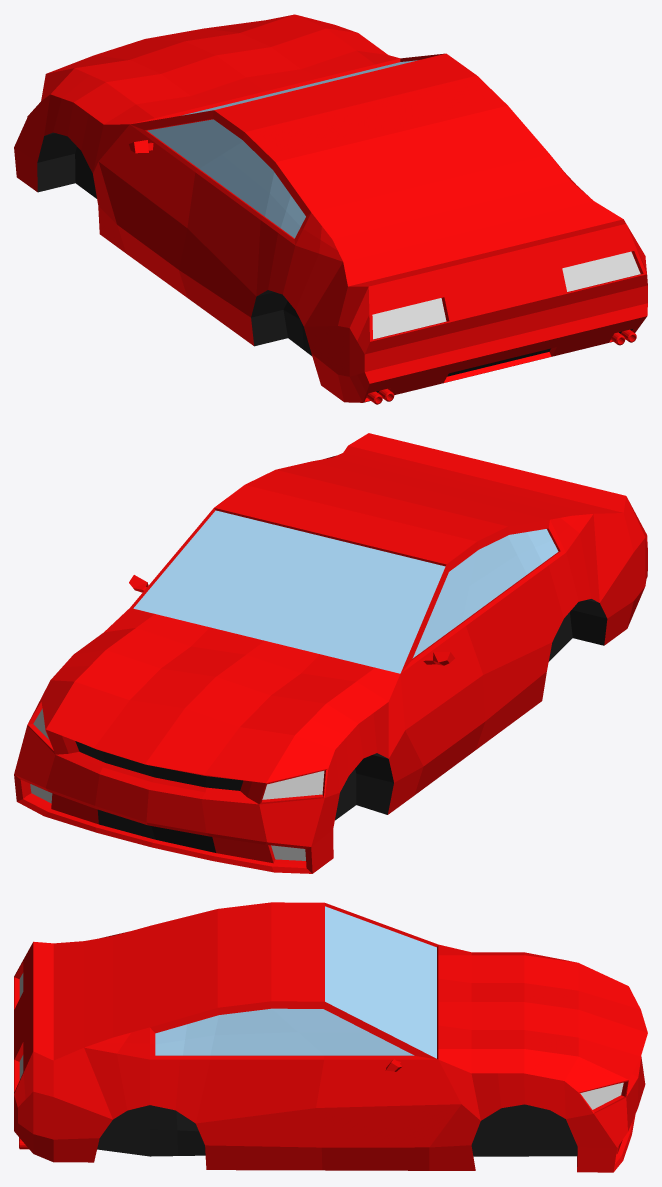
The model's file is car.fbx.
3 views of the same model, one above another, from view 1: azimuth 30°, elevation 25°; view 2: azimuth 150°, elevation 25°; view 3: azimuth 270°, elevation 25° (orthographic). The views are drawn at different scales.
Visible parts, largest first — view 1: Car; view 2: Car; view 3: Car.
Boxes of the visible parts, x1,y1,x2,y2 form: Car: (14,14,647,404); Car: (14,433,647,873); Car: (14,902,647,1172).
Bounding box in the file's own units: 2.27 × 1.24 × 4.47.
